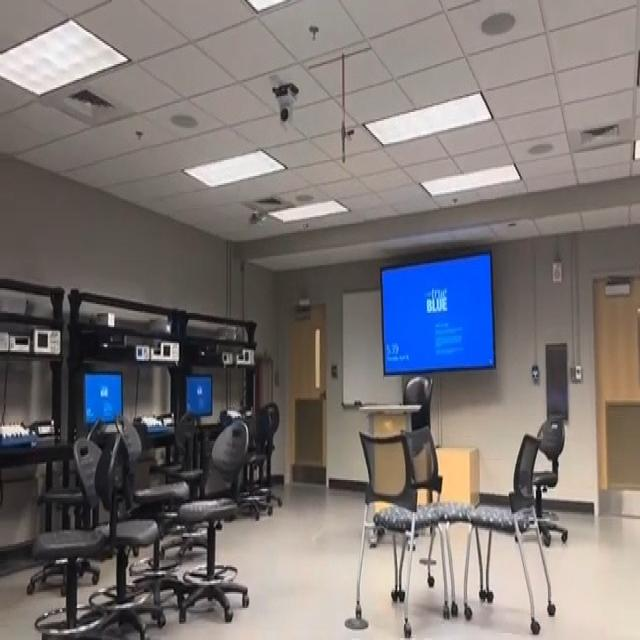drone: (242, 197, 276, 237)
